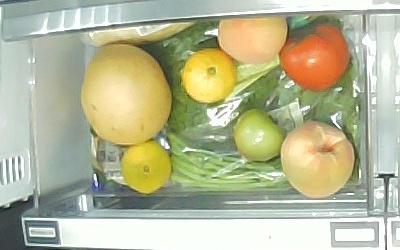peach: (280, 121, 355, 197), (218, 17, 287, 62)
pear: (82, 43, 173, 146)
tangerine: (182, 50, 237, 105), (121, 142, 172, 196)
tomato: (279, 23, 350, 93), (232, 110, 283, 160)
